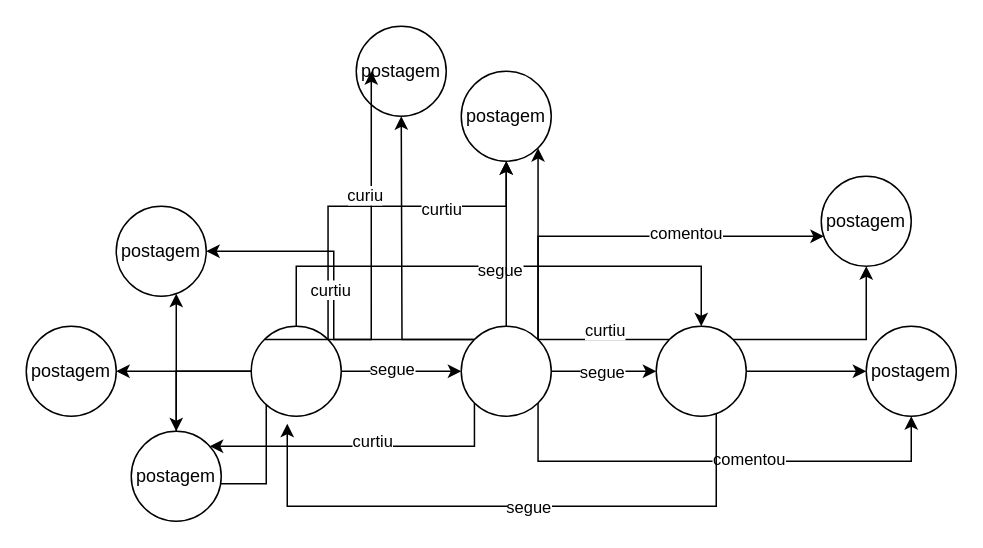
Some shapes in this 983 by 548 pixel diagram are drawn without their labels. The shapes that lost their labels are listed below. From the top down, each one's box as (x1, y1, x2, y2) in pixels, then its label:
(250, 325, 341, 416): usuário A
(460, 325, 551, 416): usuário c
(655, 325, 746, 416): usuário B
